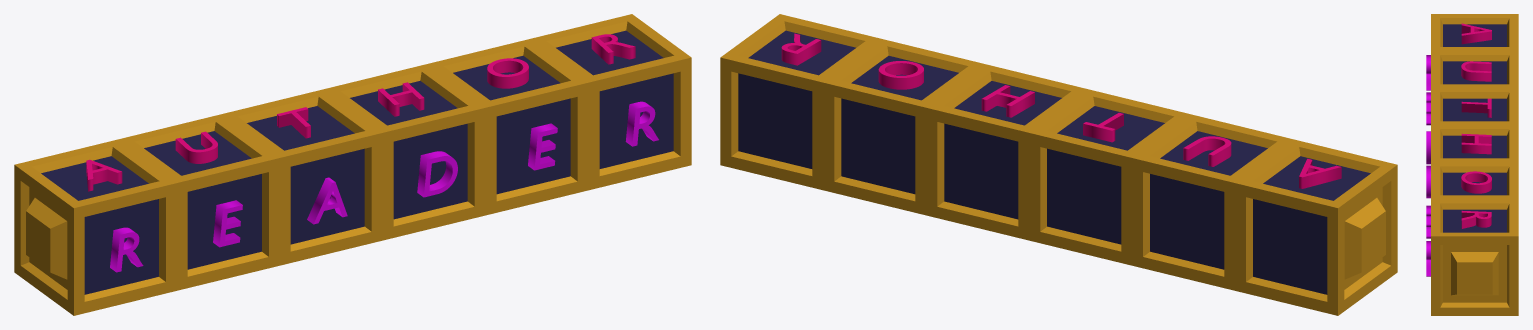
File: roller_old.glb
The picture shows the model from 3 angles, left to right: view 1: azimuth 30°, elevation 25°; view 2: azimuth 150°, elevation 25°; view 3: azimuth 270°, elevation 25°; orthographic projection. The views are drawn at different scales.
Parts seen in each view (by area): view 1: Cube, Reader, Author; view 2: Cube, Author; view 3: Cube, Author, Reader.
Part boxes in pixels (x1,y1,x2,y2): Cube: (14, 14, 691, 315); Reader: (110, 101, 658, 272); Author: (86, 34, 635, 191); Cube: (720, 14, 1397, 315); Author: (781, 33, 1341, 188); Cube: (1431, 14, 1518, 315); Author: (1461, 23, 1491, 228); Reader: (1426, 55, 1430, 276).
Size of the model in its own units: 12.23 by 2.16 by 2.11.
